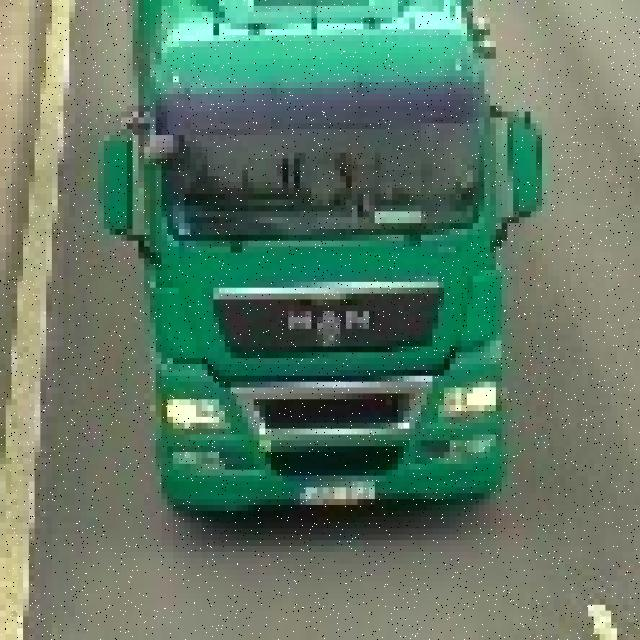truck: (104, 0, 548, 517)
